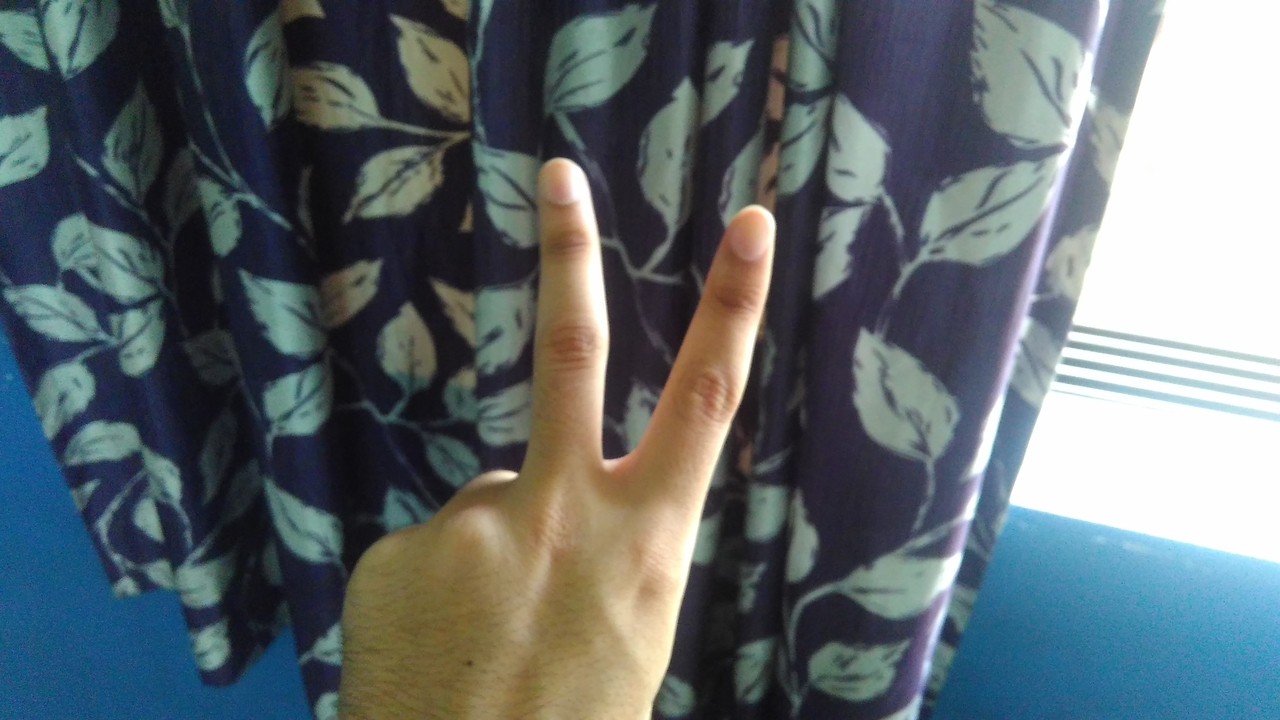fingertip: (718, 194, 780, 264), (532, 152, 588, 212)
